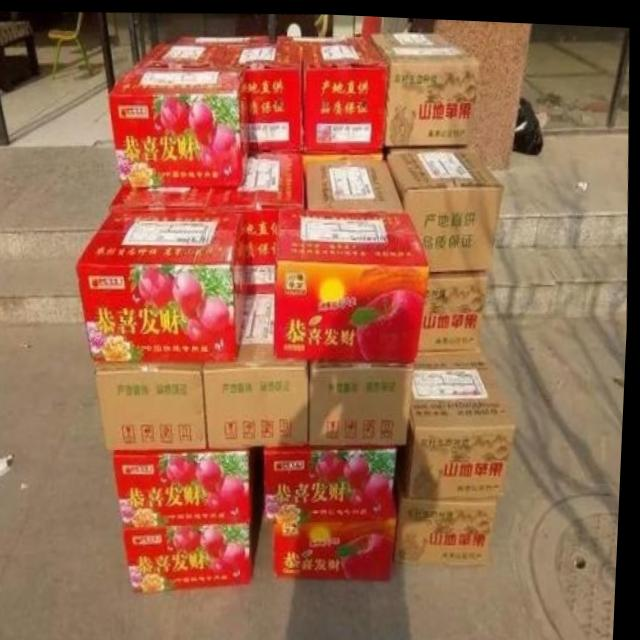box: (78, 209, 249, 361), (278, 206, 430, 358), (108, 64, 247, 185), (208, 288, 314, 445), (407, 346, 518, 494), (384, 139, 507, 267), (206, 148, 306, 291), (128, 491, 269, 588), (369, 28, 478, 146), (117, 445, 267, 527), (302, 30, 391, 158), (268, 443, 401, 523), (96, 361, 214, 450), (219, 33, 304, 149), (311, 354, 419, 441), (400, 475, 504, 559), (277, 511, 395, 576), (420, 267, 489, 349), (308, 149, 405, 207), (110, 187, 213, 212), (132, 40, 229, 66)
